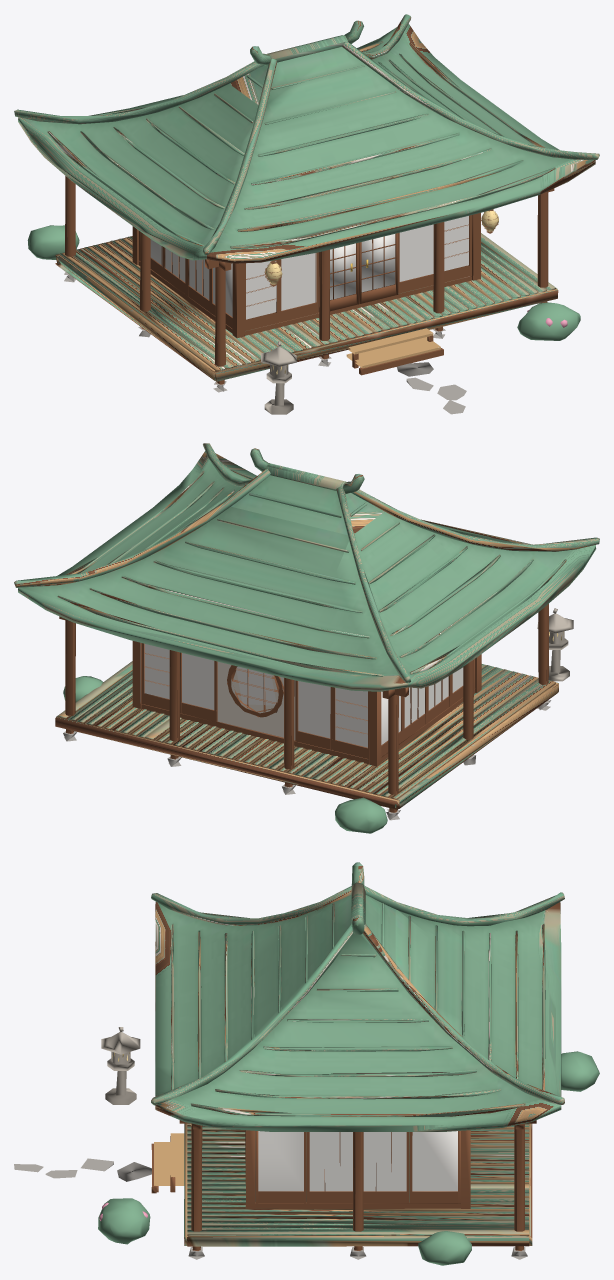
3 renders of one model, top to bottom at view 1: azimuth 30°, elevation 25°; view 2: azimuth 150°, elevation 25°; view 3: azimuth 270°, elevation 25°, orthographic. The views are drawn at different scales.
Parts seen in each view (by area): view 1: tea-house_body, tea-house_details, tea-house_plants, tea-house_garden, tea-house_sliding_door_right, tea-house_sliding_door_left; view 2: tea-house_body, tea-house_details, tea-house_plants, tea-house_garden; view 3: tea-house_body, tea-house_details, tea-house_plants, tea-house_garden.
Part boxes in pixels (left/top/right/bottom): tea-house_body: left=14, top=14, right=599, bottom=381; tea-house_details: left=64, top=176, right=554, bottom=392; tea-house_plants: left=27, top=225, right=580, bottom=340; tea-house_garden: left=261, top=341, right=466, bottom=414; tea-house_sliding_door_right: left=359, top=233, right=398, bottom=303; tea-house_sliding_door_left: left=319, top=242, right=358, bottom=311; tea-house_body: left=14, top=443, right=599, bottom=809; tea-house_details: left=59, top=604, right=550, bottom=820; tea-house_plants: left=63, top=676, right=387, bottom=833; tea-house_garden: left=537, top=608, right=573, bottom=681; tea-house_body: left=151, top=862, right=564, bottom=1246; tea-house_details: left=151, top=1120, right=536, bottom=1259; tea-house_plants: left=98, top=1051, right=599, bottom=1265; tea-house_garden: left=14, top=1027, right=151, bottom=1181.
Bounding box in the file's own units: 10.1 × 6.36 × 11.98.
Materials: 12 (1 with a texture image).
